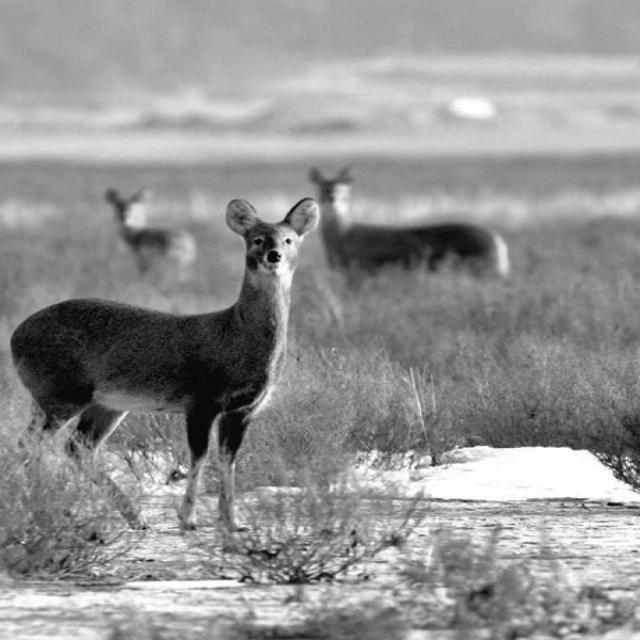Deer: (9, 202, 330, 526), (302, 159, 522, 289), (80, 183, 204, 284)
